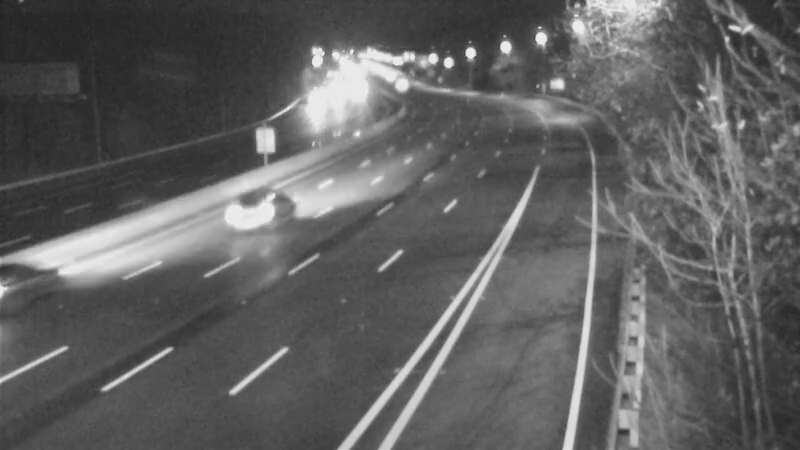vehicle: (199, 176, 279, 256), (374, 60, 424, 110), (296, 75, 346, 125)
